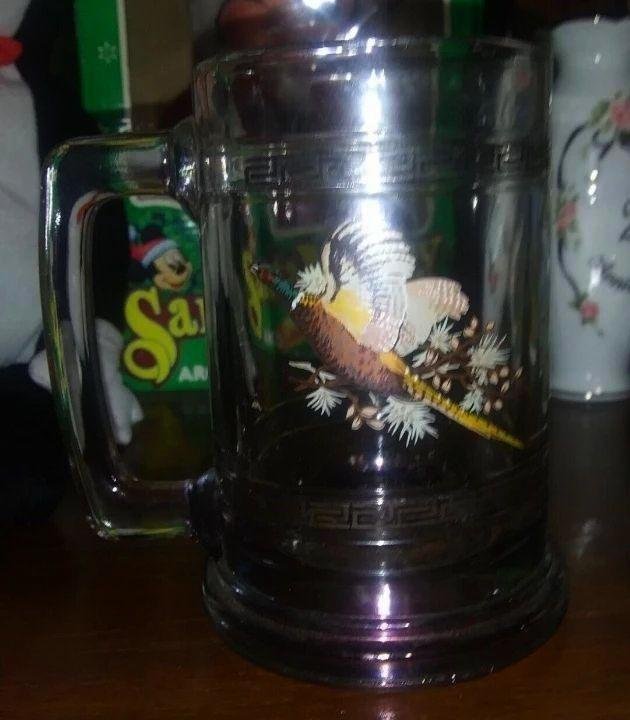glass-mug: (27, 34, 587, 701)
